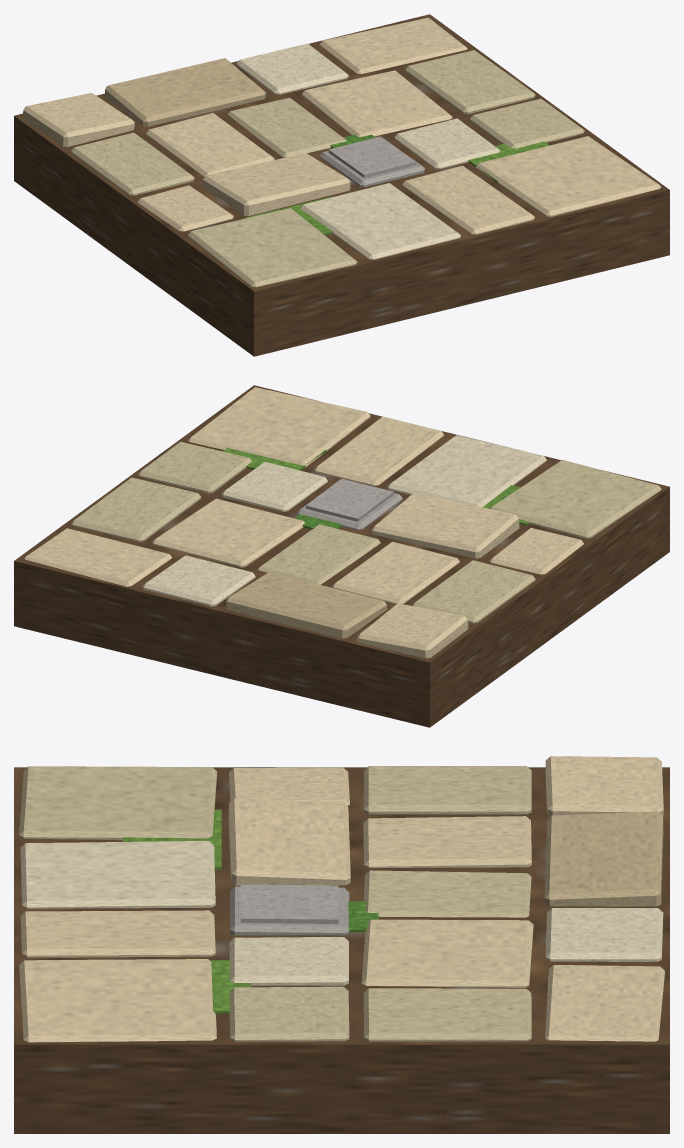
The model's file is Chemin_Croix_A.obj.
3 views of the same model, one above another, from view 1: azimuth 30°, elevation 25°; view 2: azimuth 150°, elevation 25°; view 3: azimuth 270°, elevation 25° (orthographic). The views are drawn at different scales.
Visible parts, largest first — view 1: Chemin_Croix_A; view 2: Chemin_Croix_A; view 3: Chemin_Croix_A.
Boxes of the visible parts, bbox=[...] form: Chemin_Croix_A: bbox=[14, 14, 669, 356]; Chemin_Croix_A: bbox=[14, 385, 669, 727]; Chemin_Croix_A: bbox=[14, 756, 669, 1133].
Size of the model in its own units: 8 by 1.45 by 8.
Materials: 1 (1 with a texture image).
